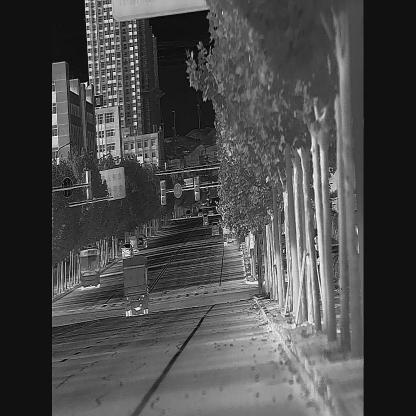car: (122, 257, 149, 318), (79, 248, 100, 288), (222, 224, 239, 247), (121, 242, 133, 258), (128, 236, 137, 254), (211, 220, 219, 235), (140, 233, 147, 248), (137, 236, 143, 249), (202, 213, 208, 225), (207, 208, 214, 216), (185, 209, 191, 218), (198, 207, 203, 216), (210, 198, 212, 203)
